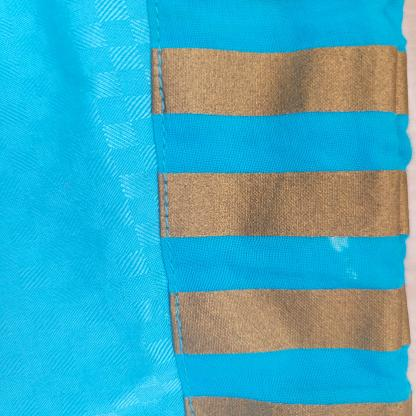spot: (324, 232, 354, 251), (343, 262, 360, 281)
